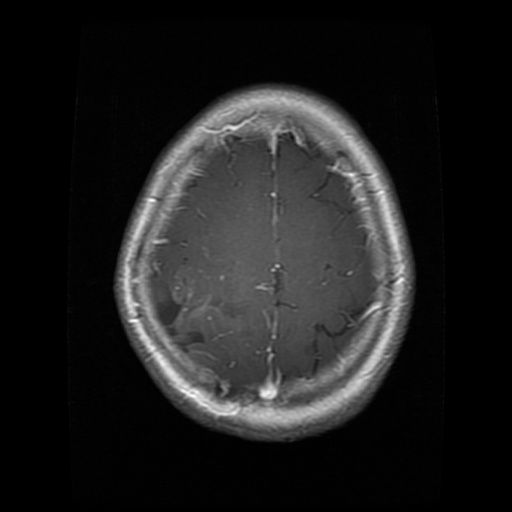glioma: (156, 261, 245, 378)
